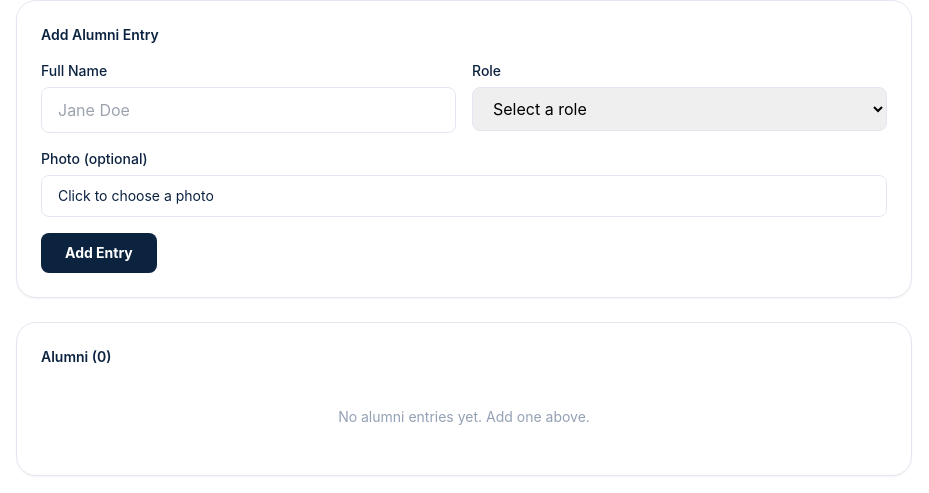
AlumniManagement › creates a new alumni entry from the form
Expected: the text "No alumni entries yet. Add one above." is shown, [338,408,590,425]
Type "Eric Habimana" into the field labelled "Full Name" at (248, 110), box [41,87,456,133]
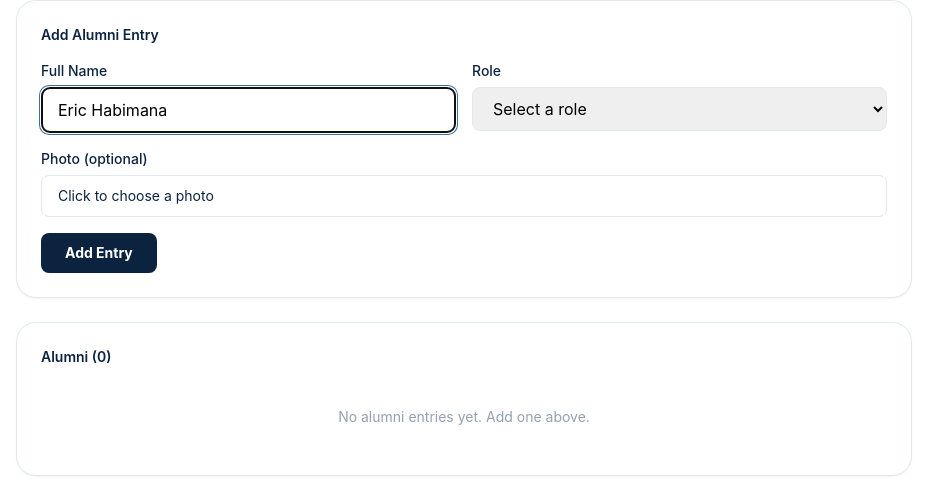
Select "Full-Stack Developer" in the dropdown labelled "Role" at (680, 109), box [472,87,887,131]
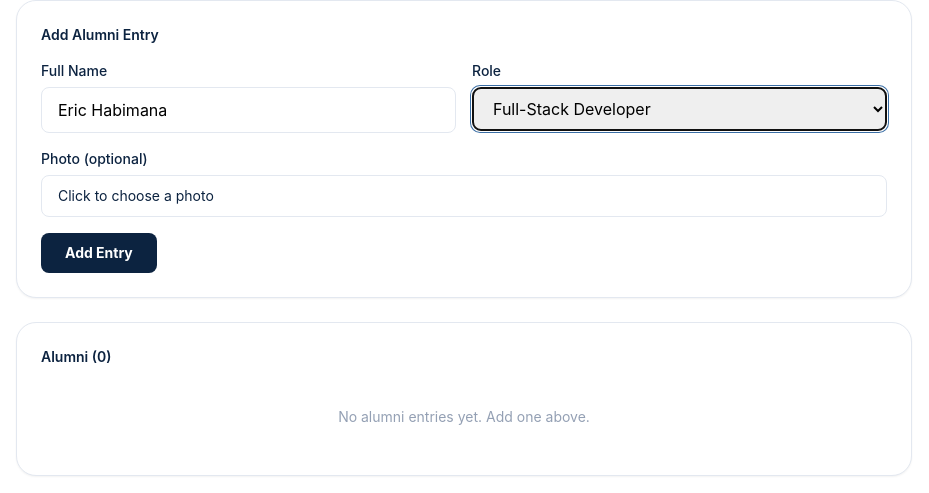
Click the button "Add Entry" at (99, 253), box [41,233,157,273]
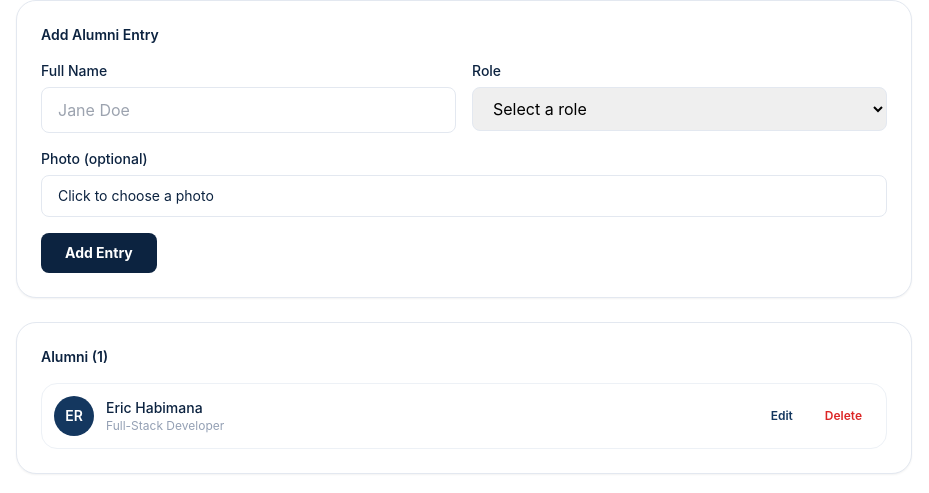
Expected: the text "Eric Habimana" is shown, [106,399,203,416]
